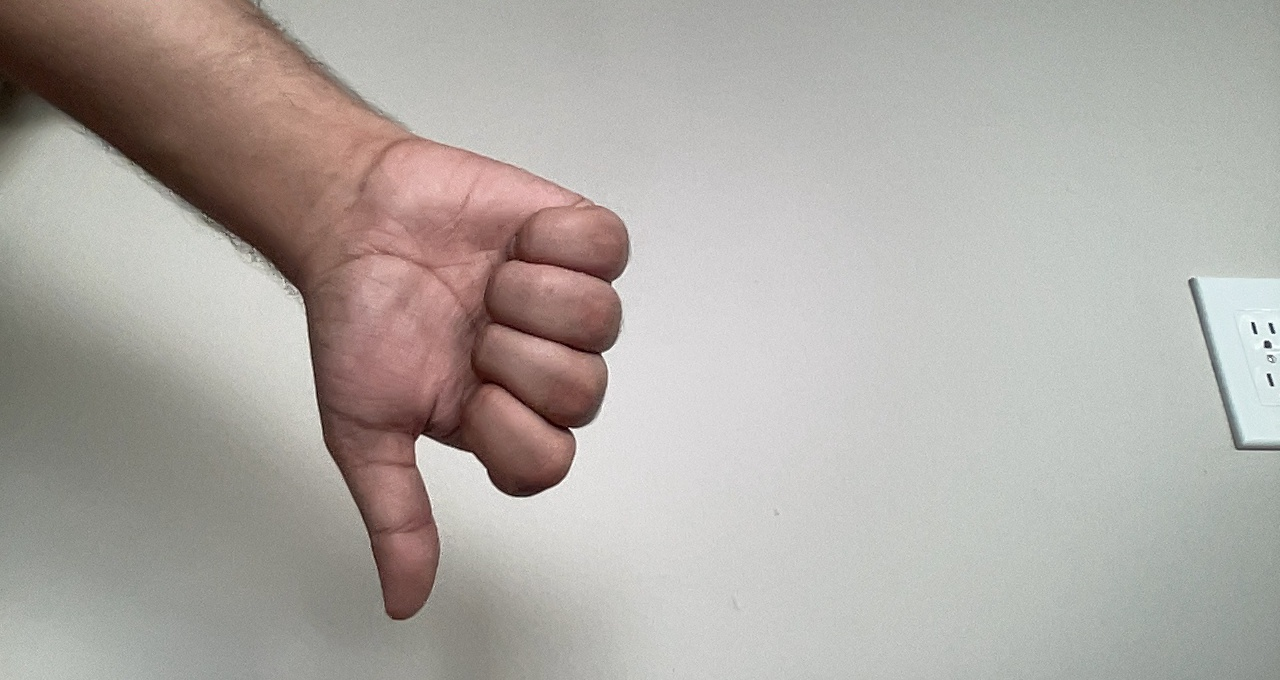thumbsdown: (287, 131, 635, 623)
